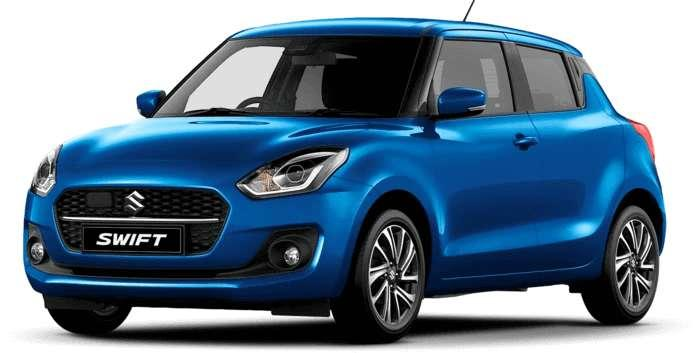Hatchback: (20, 7, 677, 353)
